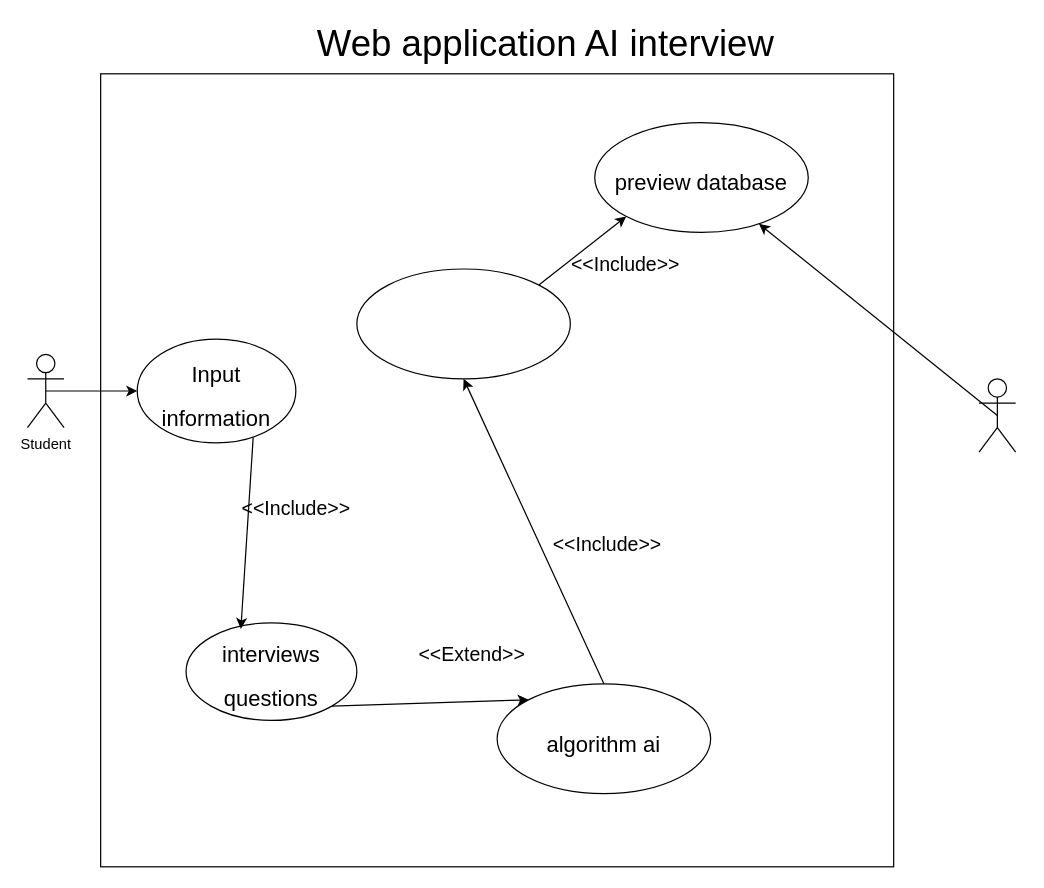
This 1044x888 diagram has some shape labels left out. The shapes that lost their labels are listed below. From the top down, each one's box as (x1, y1, x2, y2) in pixels, then its label:
(356, 268, 570, 379): insert data base
(978, 378, 1016, 452): Teacher
